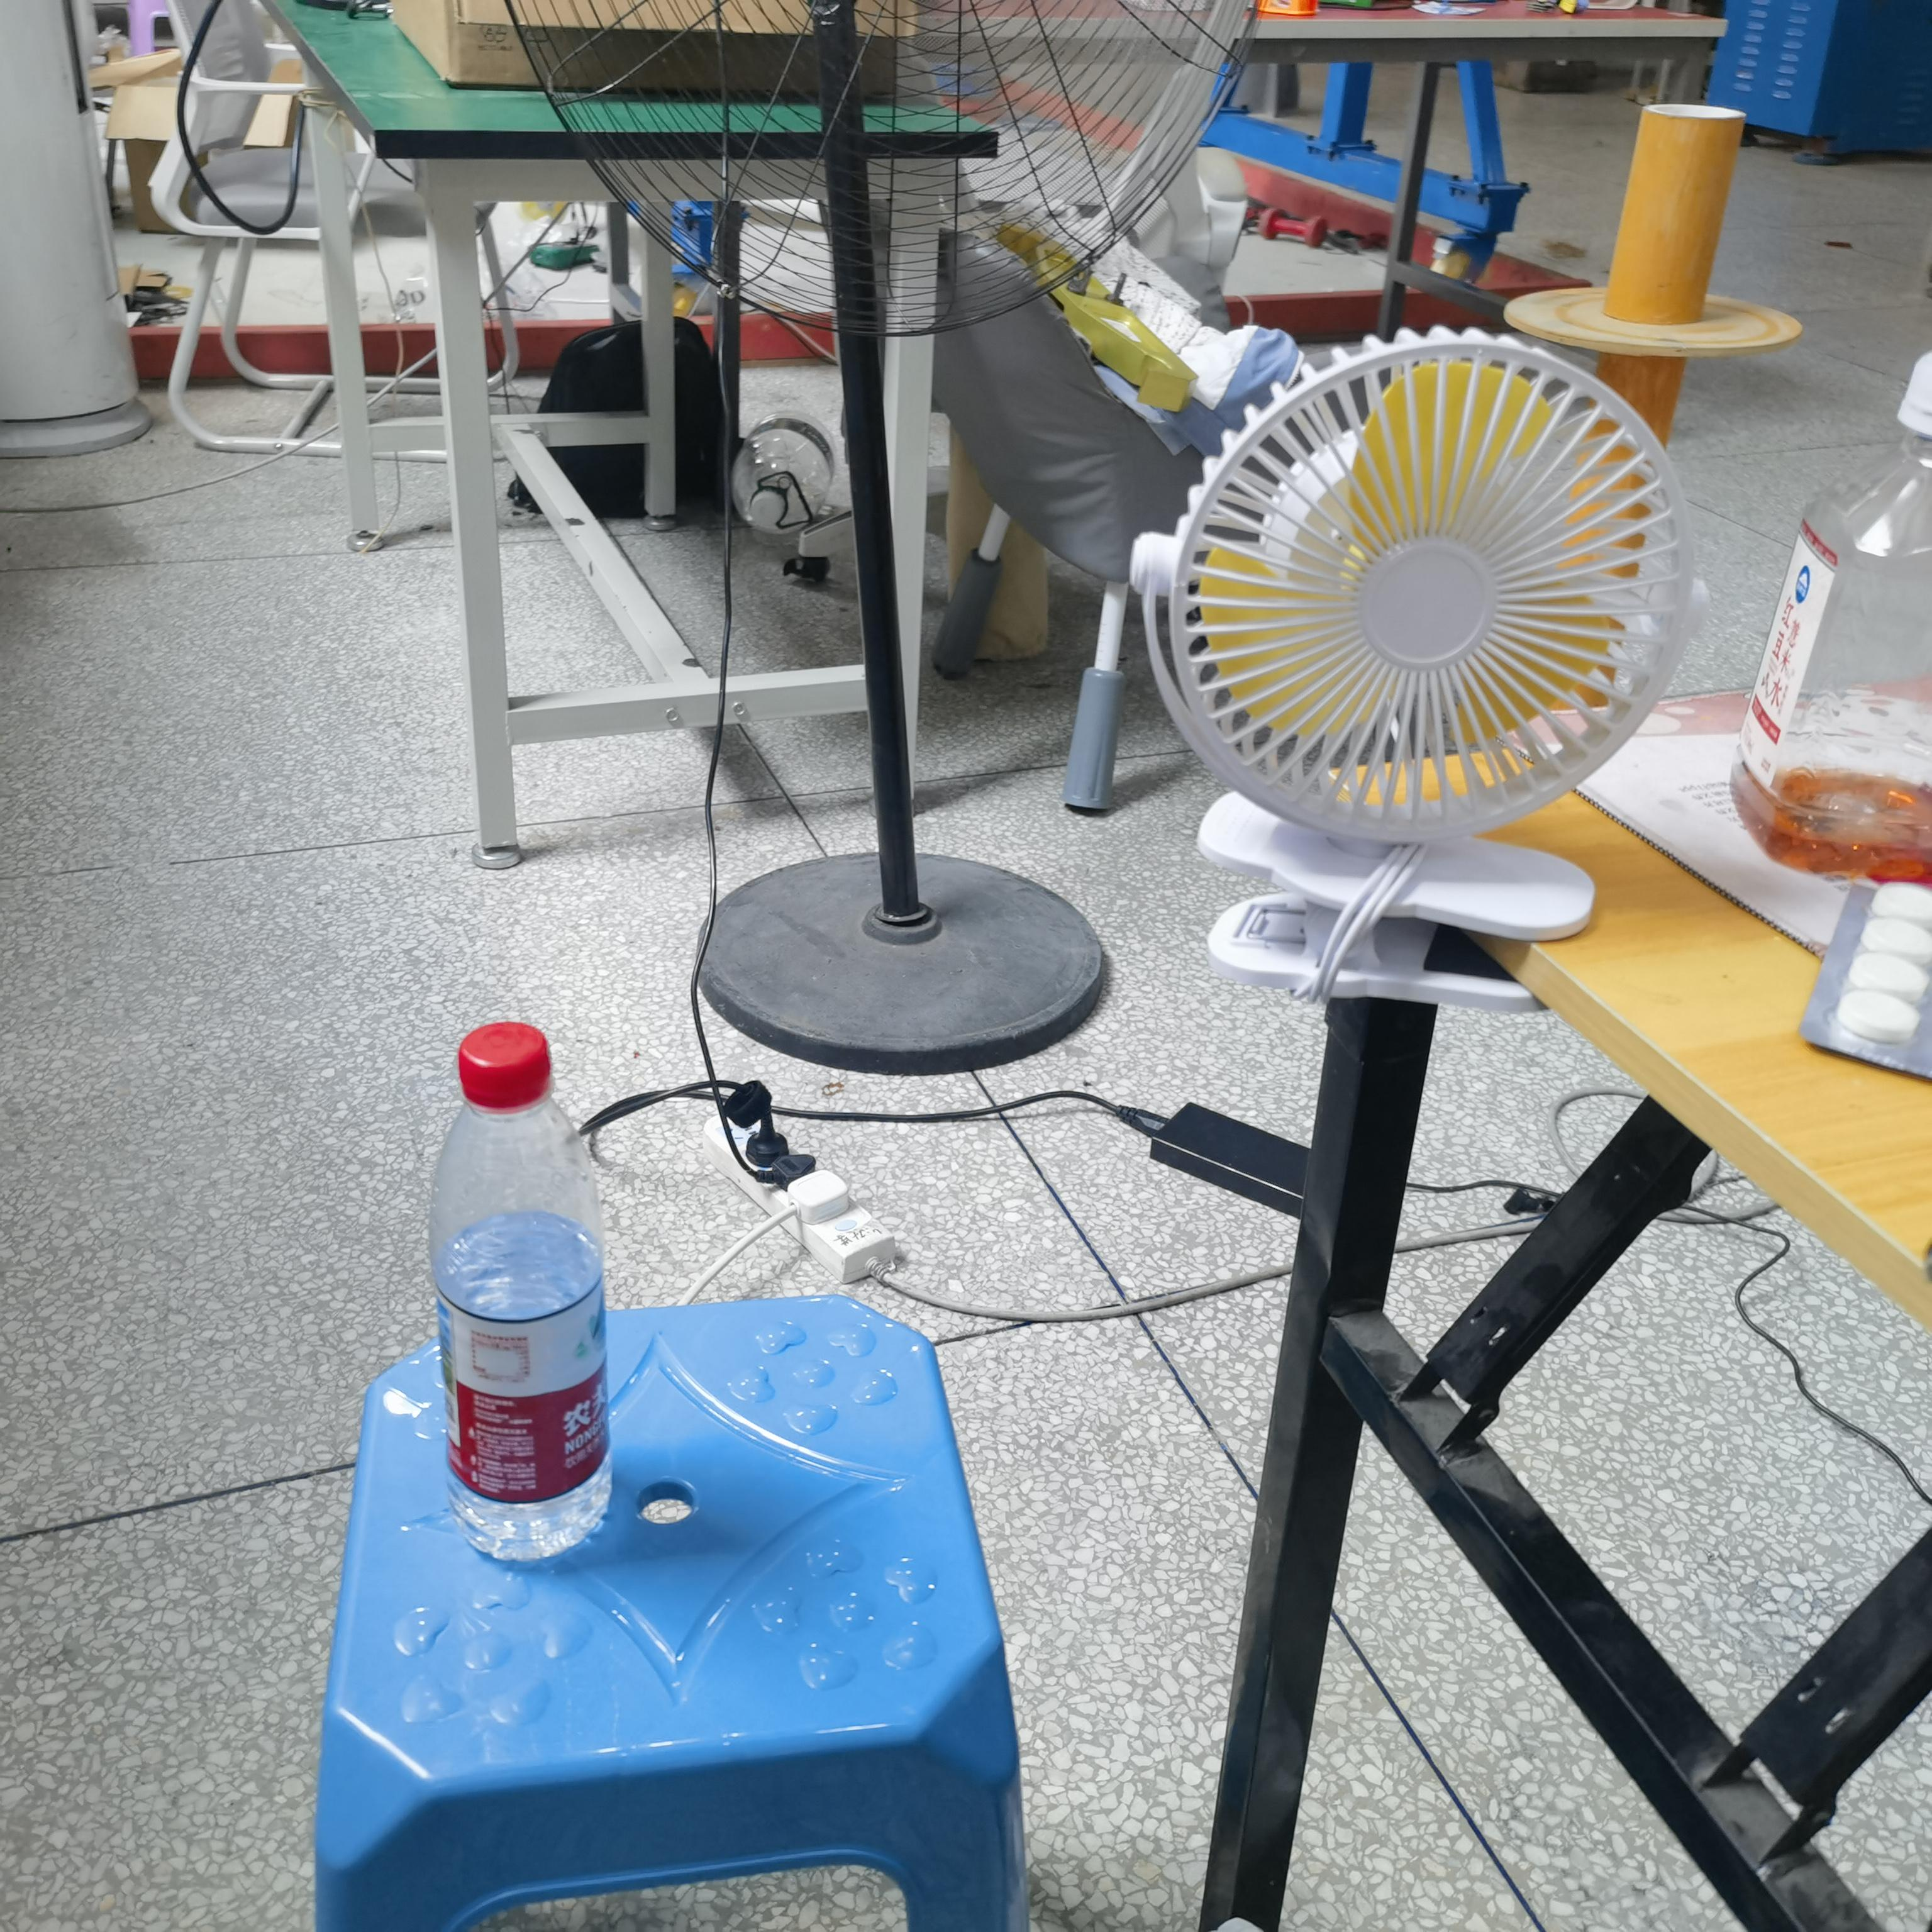bottle: (418, 1014, 628, 1580)
fan: (1125, 331, 1716, 1024)
